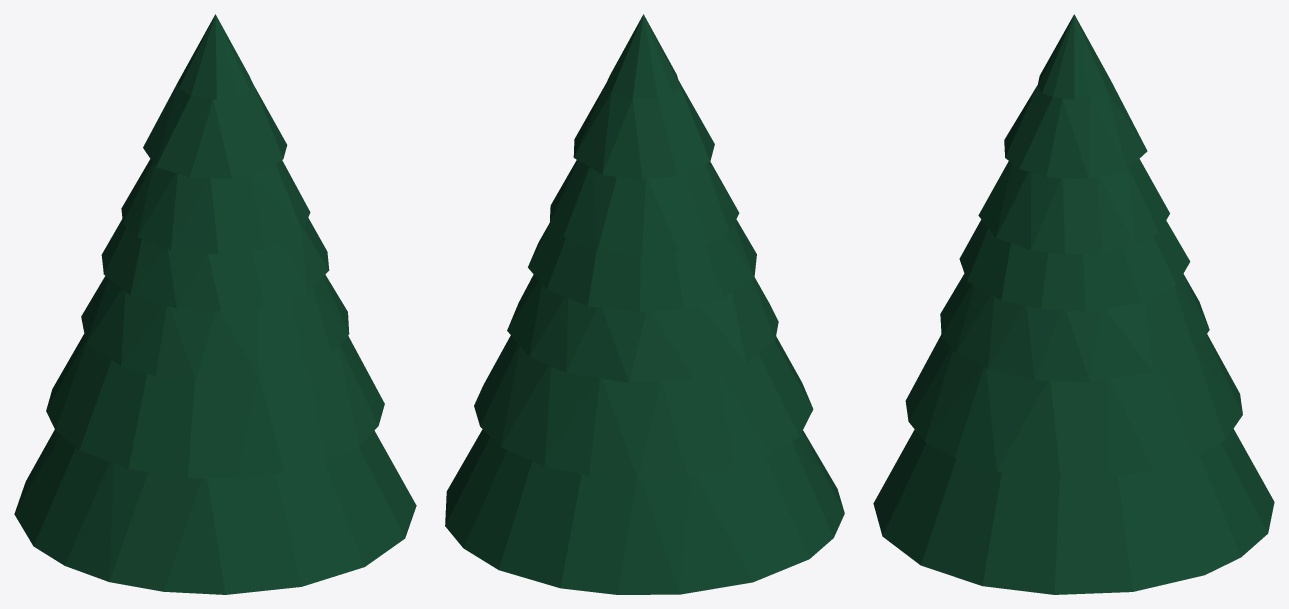
File: tree16.fbx
3 views of the same model, side by side, from view 1: azimuth 30°, elevation 25°; view 2: azimuth 150°, elevation 25°; view 3: azimuth 270°, elevation 25° (orthographic).
Visible parts, largest first — view 1: treetype16; view 2: treetype16; view 3: treetype16.
Part boxes in pixels (x1,y1,x2,y2): treetype16: (14,14,416,594); treetype16: (445,14,844,594); treetype16: (873,14,1274,594).
Size of the model in its own units: 121 by 181 by 121.
